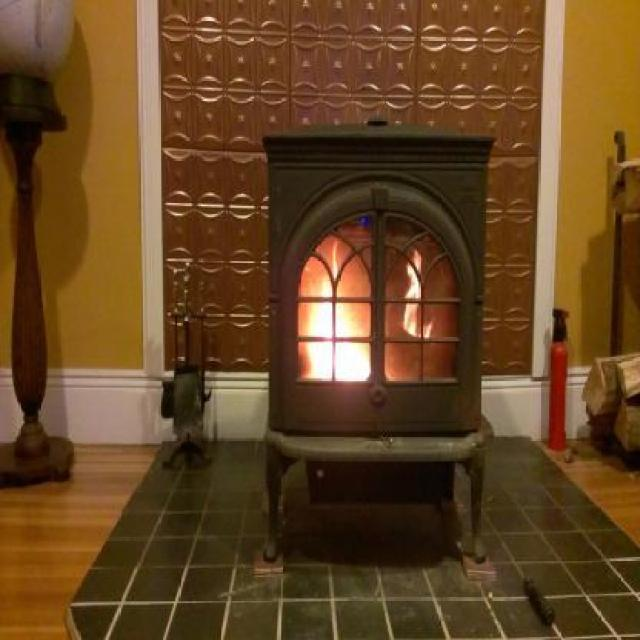Fire: (305, 280, 376, 385), (404, 252, 421, 337), (328, 240, 339, 278), (411, 326, 437, 339)
